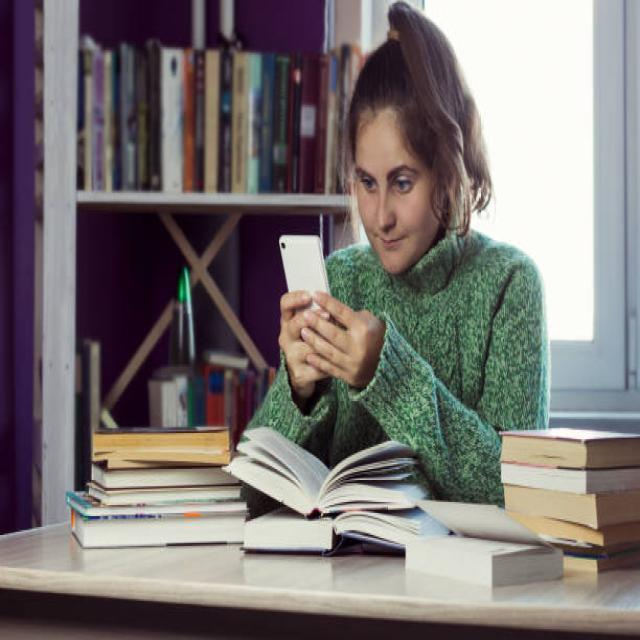Phone use: (239, 4, 557, 504)
